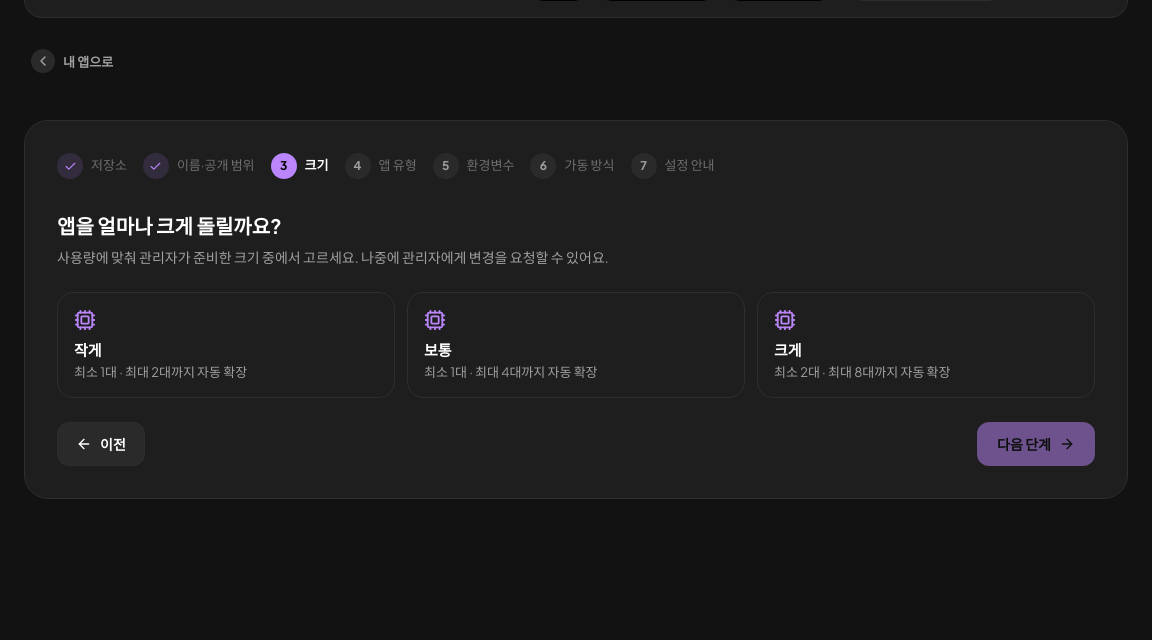
Test: 사용자 화면 금지 용어 노출 검출 › 앱 생성 마법사(공개 범위·시간표)에 AWS 용어(VPC 포함)가 없고 네트워크 UI 도 없다
Earlier steps of the test are not shown.
Click the button "작게 최소 1대 · 최대 2대까지 자동 확장". click: {"x": 128, "y": 372}
box: [57,292,395,398]
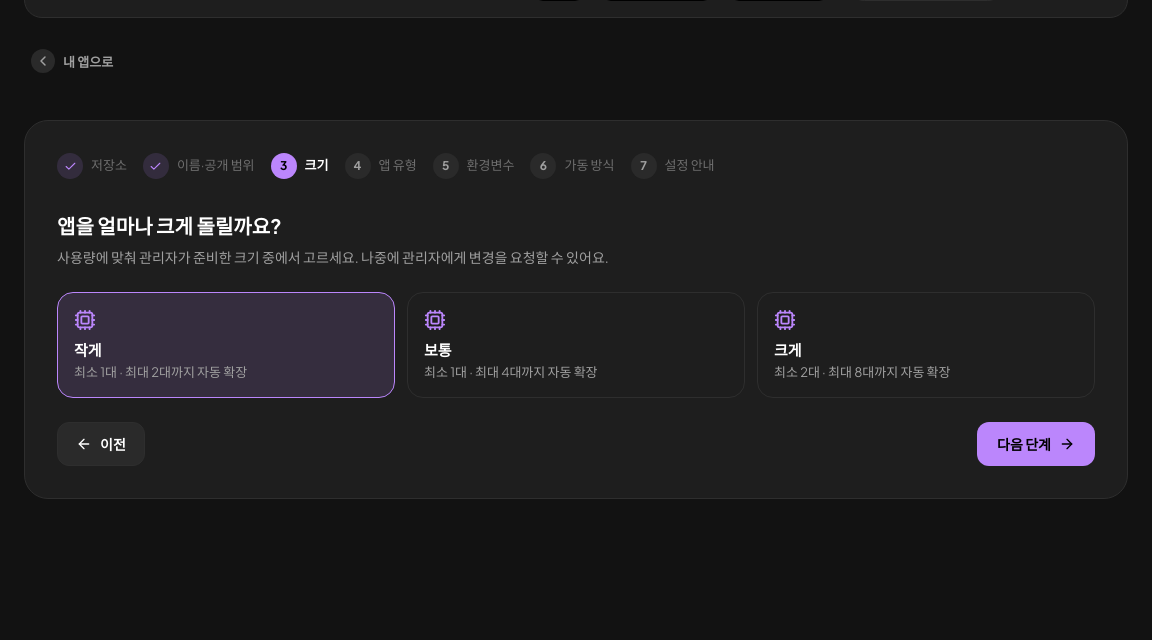
Click the button "다음 단계". click: {"x": 1036, "y": 444}
box: [977,422,1095,466]
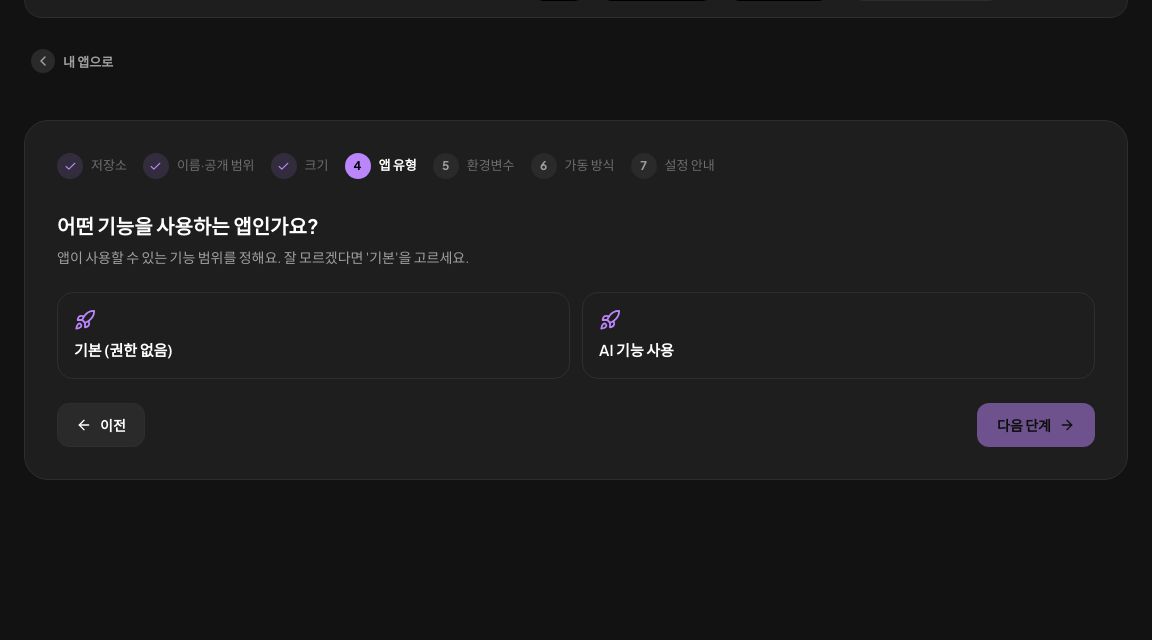
Check: the heading "어떤 기능을 사용하는 앱인가요?" is shown, box [57,213,318,238]
Click the button "기본 (권한 없음)". click: {"x": 123, "y": 350}
box: [57,292,570,379]
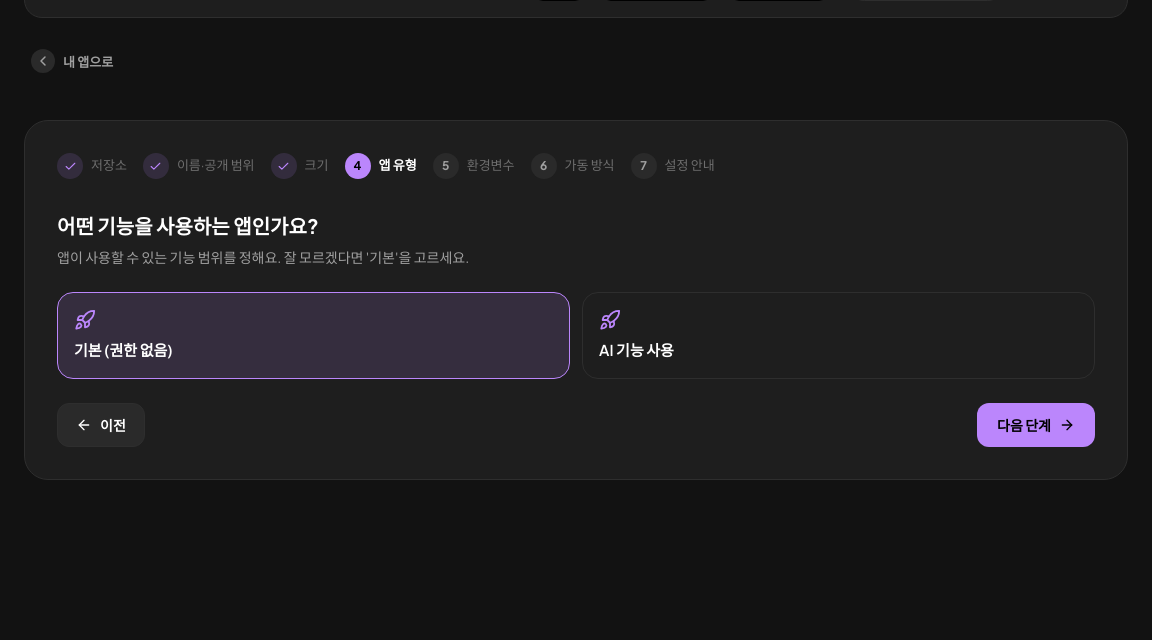
Click the button "다음 단계". click: {"x": 1036, "y": 425}
box: [977,403,1095,447]
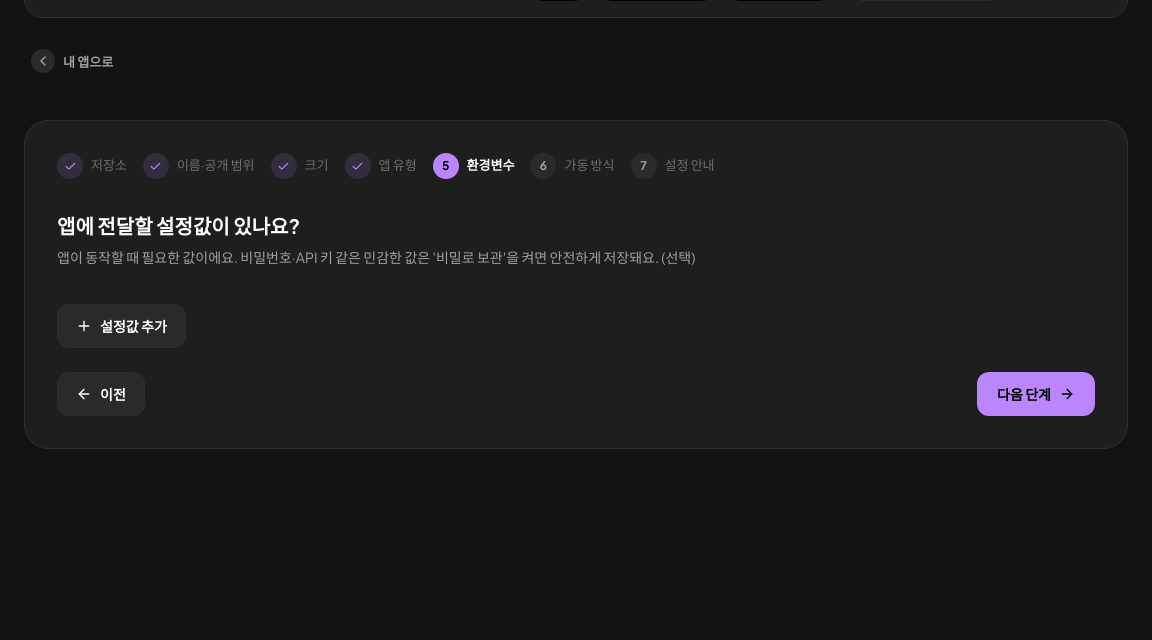
Check: the heading "앱에 전달할 설정값이 있나요?" is shown, box [57,213,300,238]
Click the button "다음 단계". click: {"x": 1036, "y": 394}
box: [977,372,1095,416]
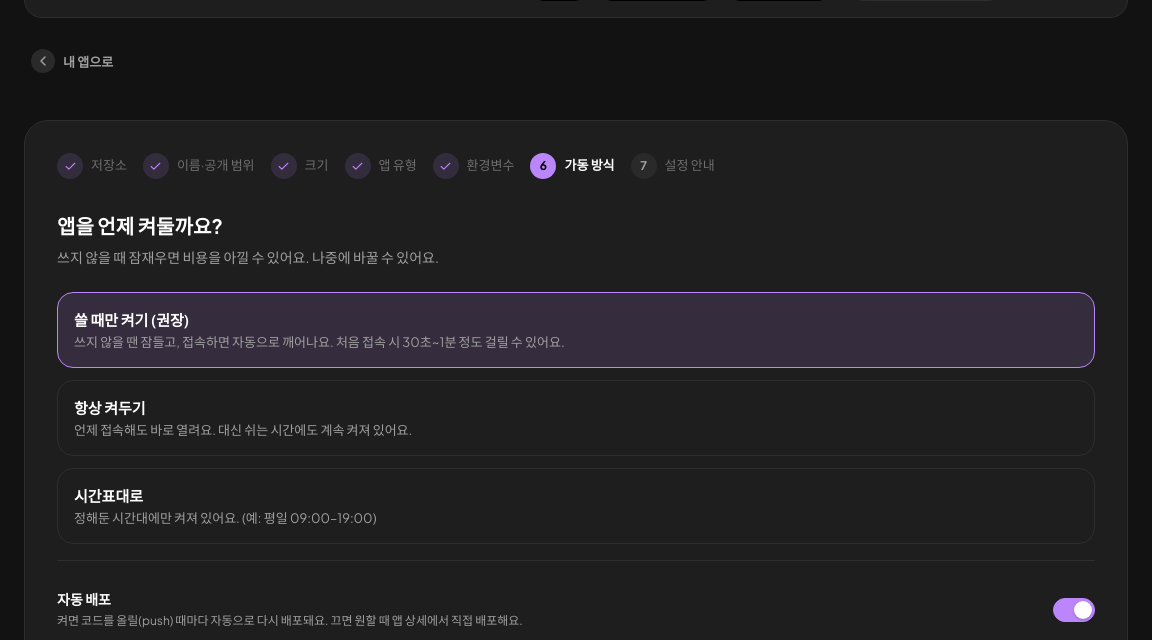
Check: the heading "앱을 언제 켜둘까요?" is shown, box [57,213,223,238]
Click the text "시간표대로". click: {"x": 108, "y": 496}
box: [74,486,143,505]
(page scrolled)
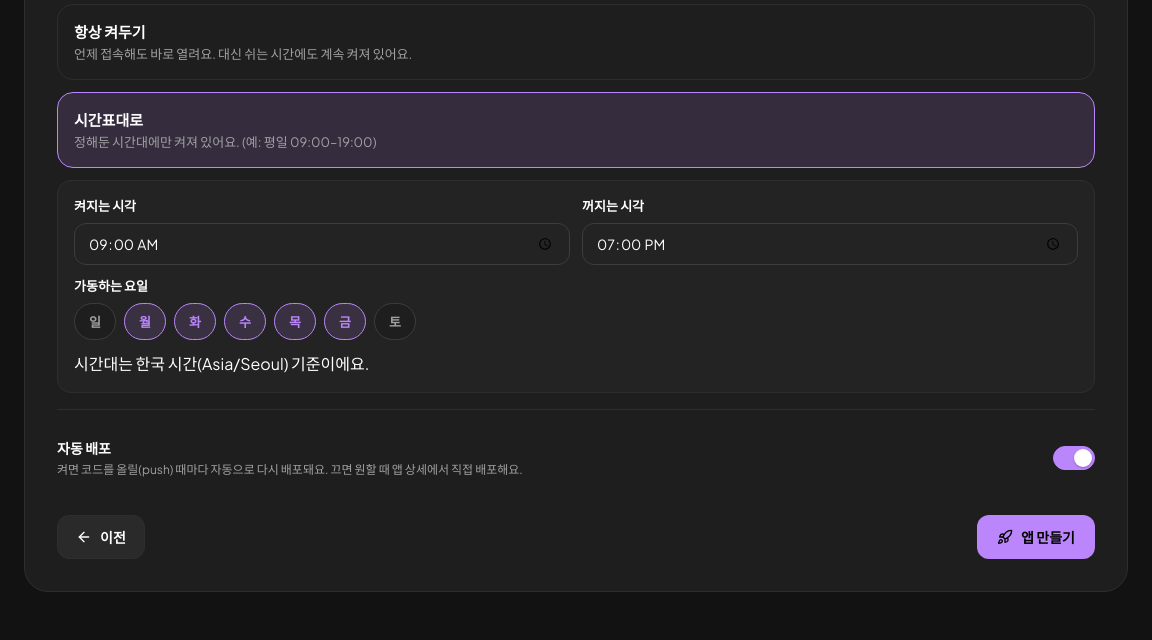
Check: the time field labelled "켜지는 시각" is shown, box [74,222,570,265]
Check: the button named "월요일" is shown, box [124,303,166,340]
